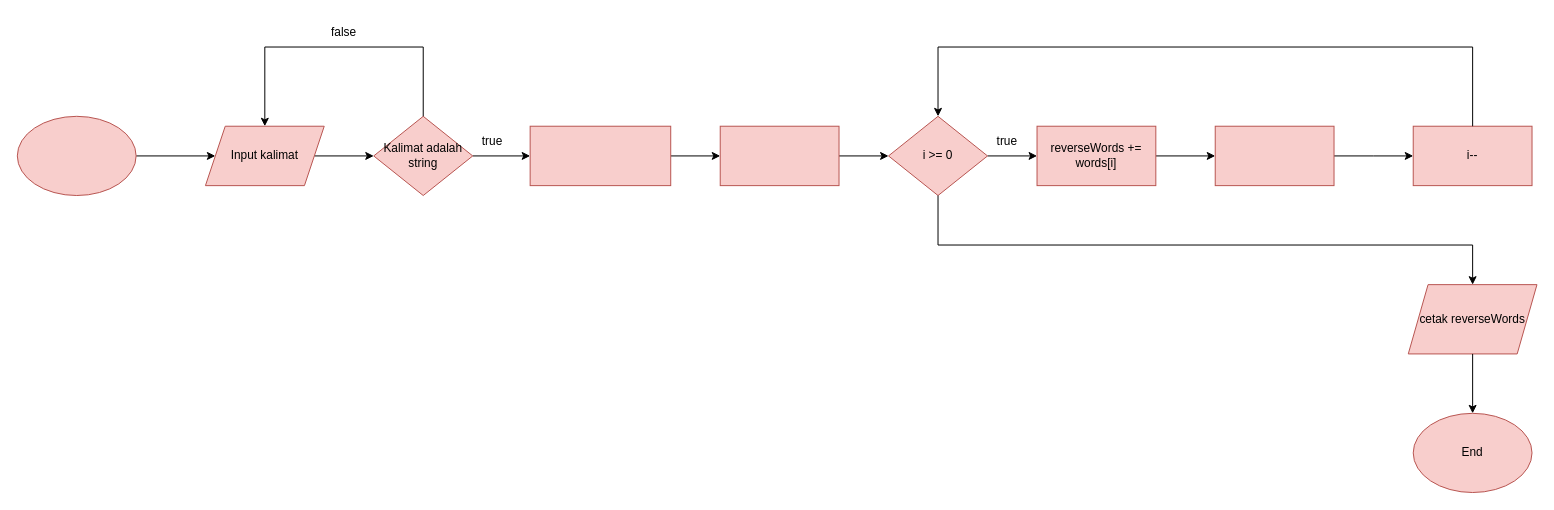
Image size: 1554x510. Some labels were removed from this diagram. The shapes that lost their labels are listed below. From the top down, each one's centre as x and y in pixels, then its label:
point 76,155: Start
point 600,155: words = kalimat.split( " ")
point 779,155: i = words.length - 1
point 1274,155: reverseWords += " "
